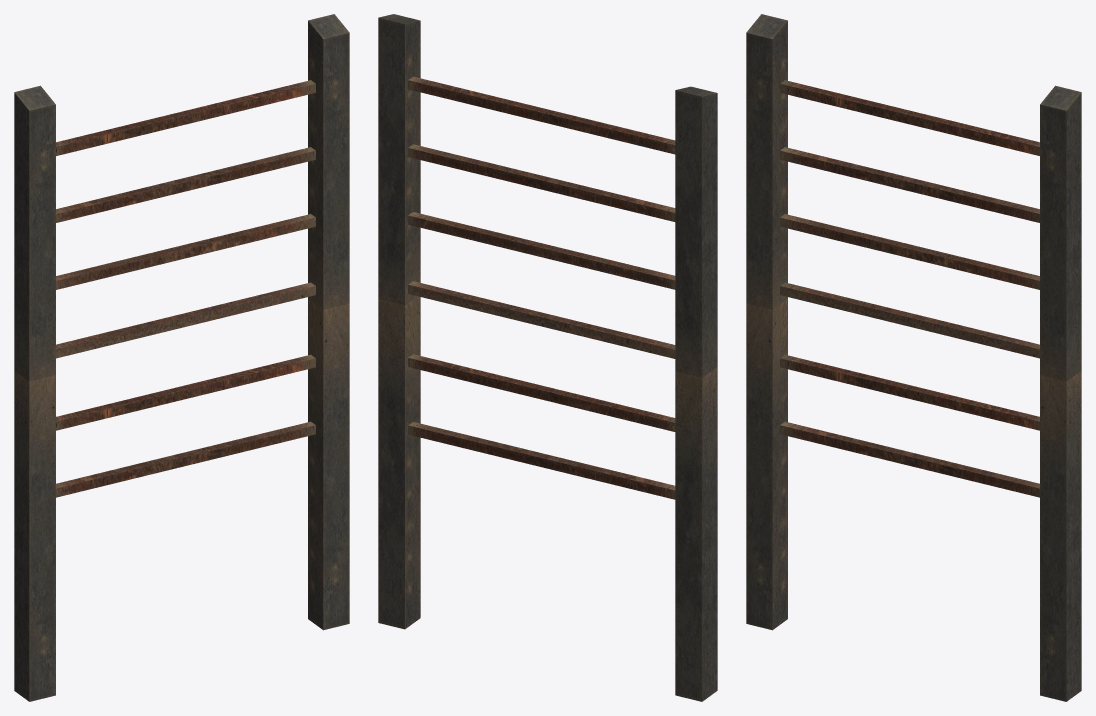
The model's file is DesertBarrier 2 (Dark).glb.
3 views of the same model, side by side, from view 1: azimuth 30°, elevation 25°; view 2: azimuth 150°, elevation 25°; view 3: azimuth 330°, elevation 25° (orthographic).
Visible parts, largest first — view 1: var3_var3_0.001; view 2: var3_var3_0.001; view 3: var3_var3_0.001.
Boxes of the visible parts, x1,y1,x2,y2 form: var3_var3_0.001: [14, 14, 349, 701]; var3_var3_0.001: [378, 14, 717, 701]; var3_var3_0.001: [746, 14, 1081, 701].
Size of the model in its own units: 1.51 by 2.71 by 0.125.
1 material, 1 textured.
